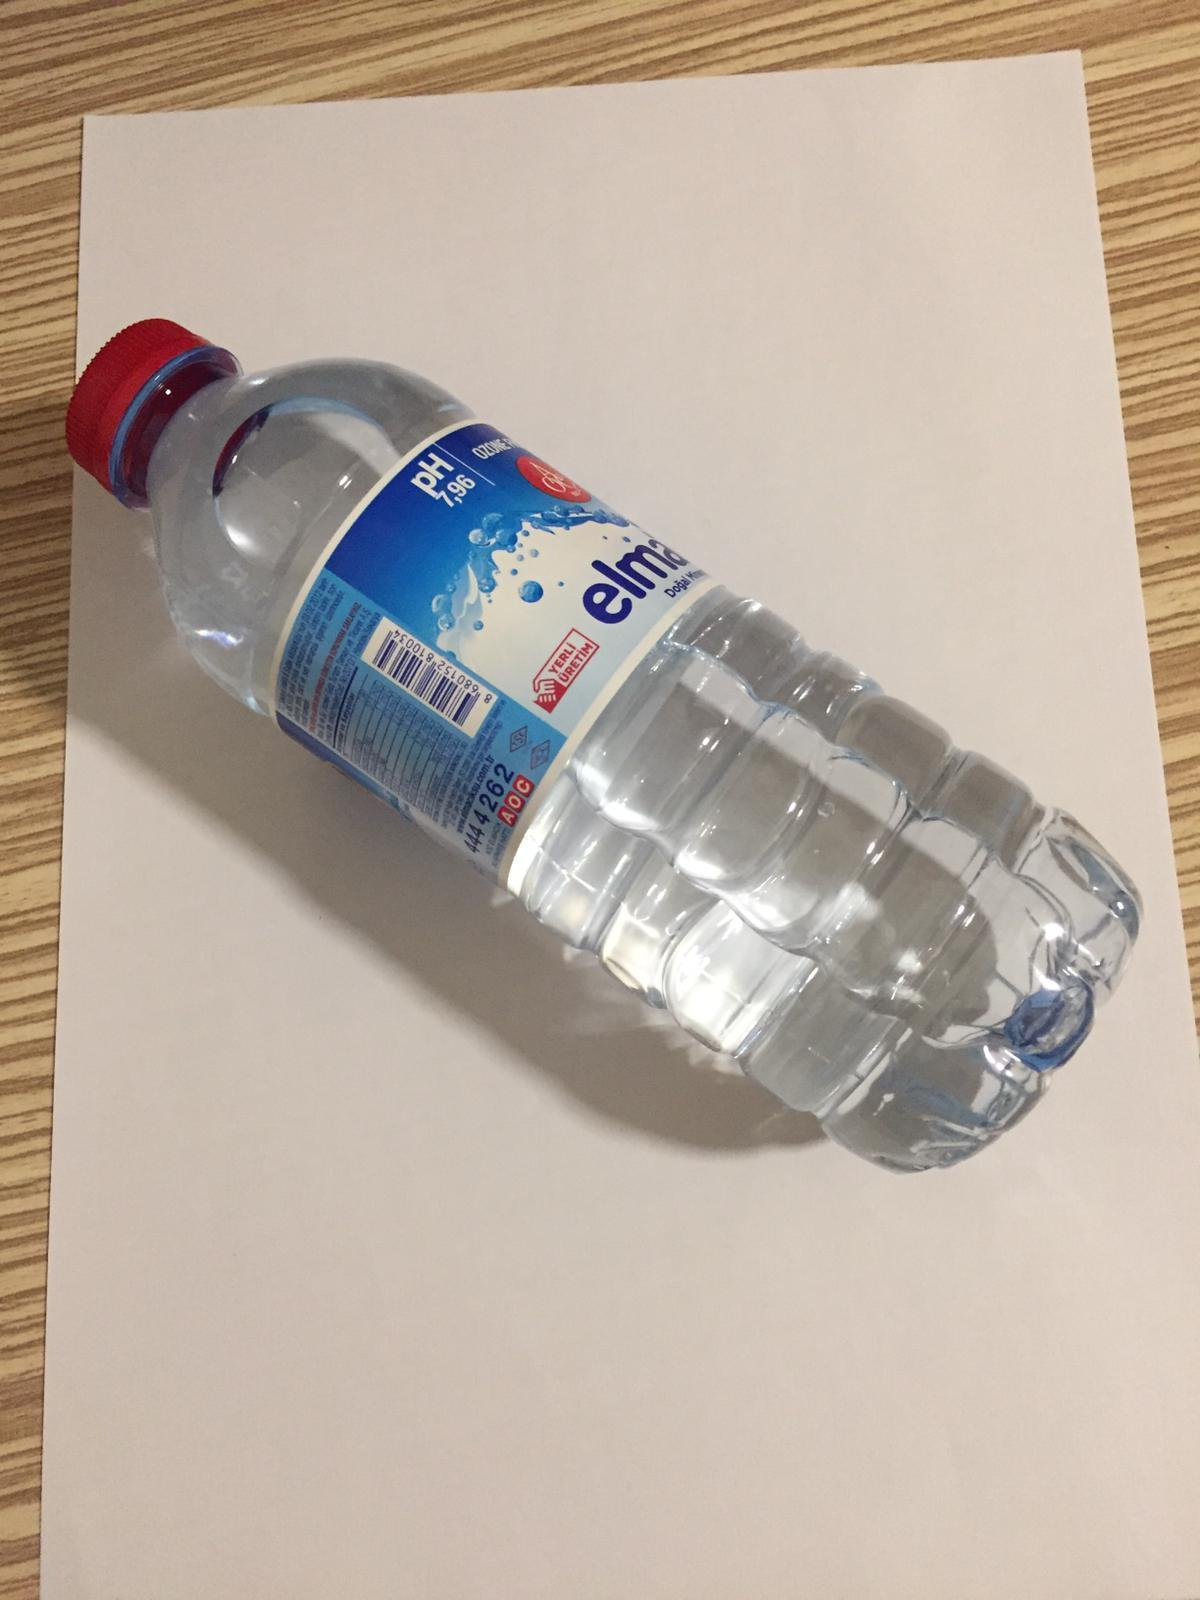bottle: (68, 307, 1146, 1174)
